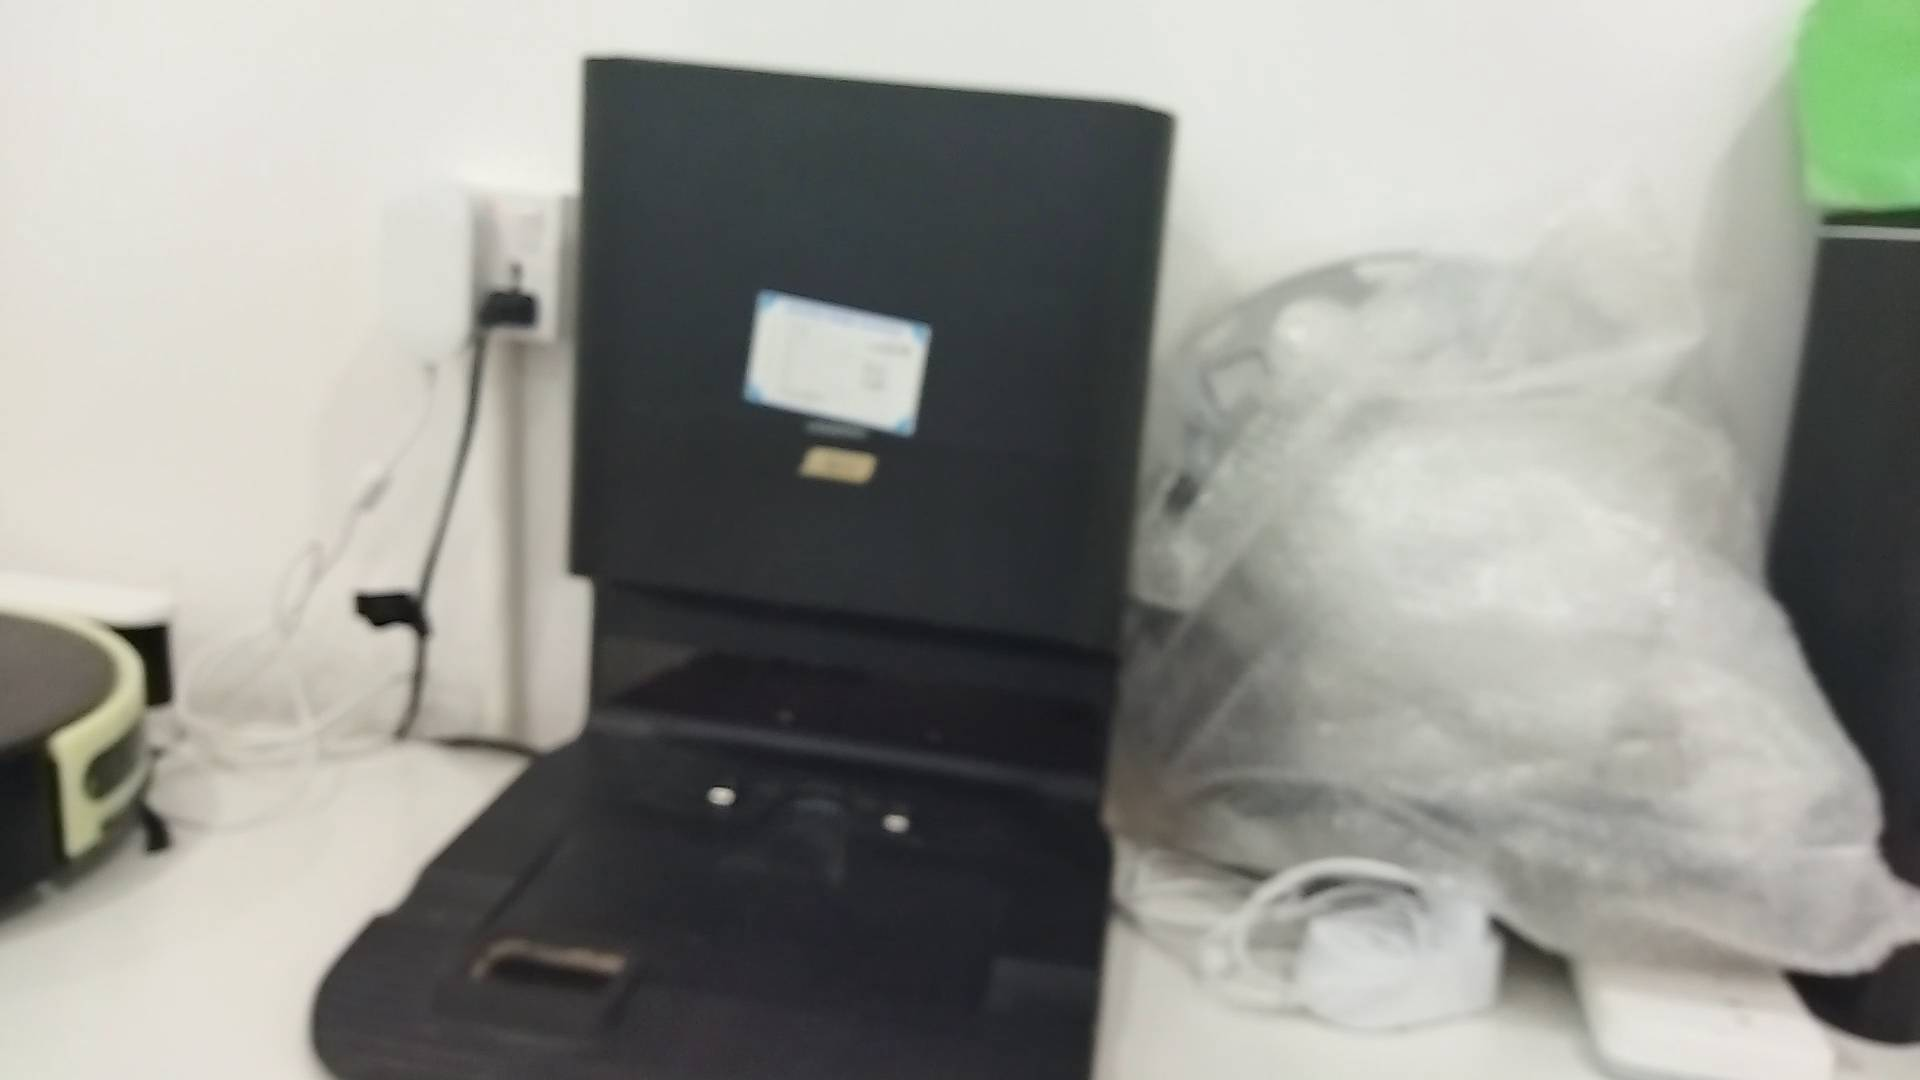dust collecting barrel: (307, 51, 1178, 1080)
